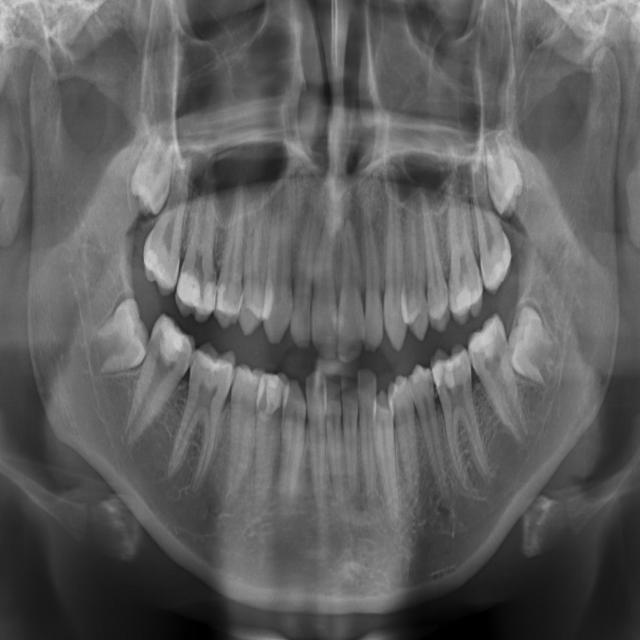CompositeResinRestoration: (179, 268, 214, 317), (155, 318, 189, 368), (196, 343, 228, 388), (434, 352, 467, 392), (257, 371, 286, 412), (488, 241, 513, 287), (471, 320, 495, 360), (456, 288, 480, 322), (142, 237, 163, 271), (216, 282, 232, 321)
DentalCaries: (330, 311, 347, 339), (187, 355, 200, 386), (443, 278, 455, 307), (427, 380, 436, 400)
